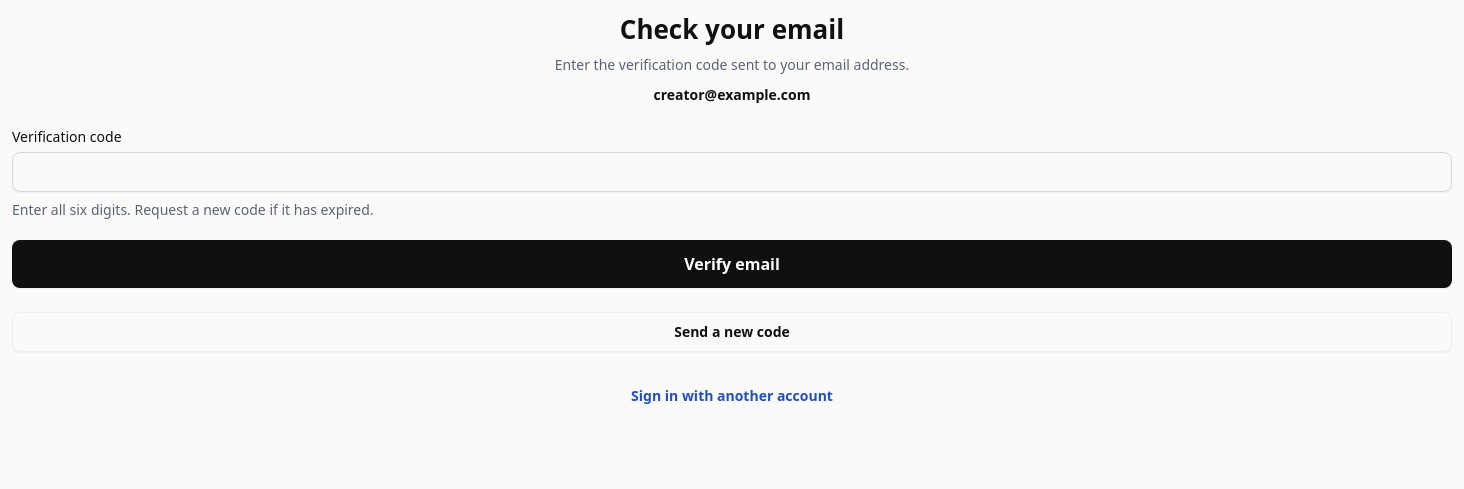
Test: React Query auth forms › shows verification errors and resend success from separate mutations
The image size is (1464, 489).
Type "012345" into the field labelled "Verification code" at [732, 172], box [12,152,1452,192]
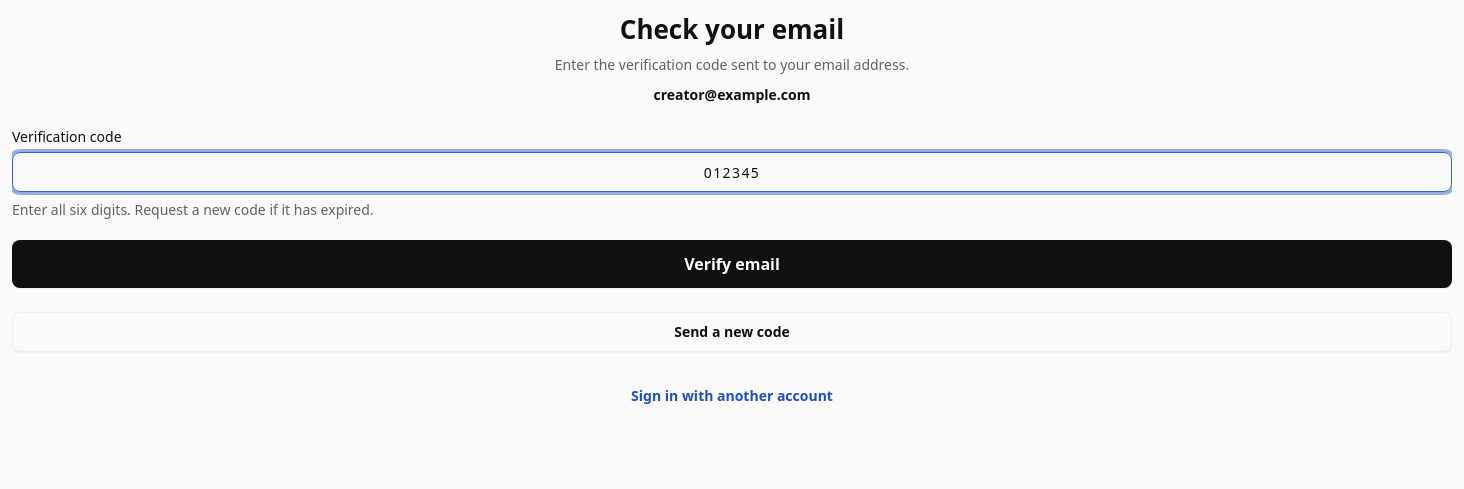
Click the button "Verify email" at [732, 264], box [12,240,1452,288]
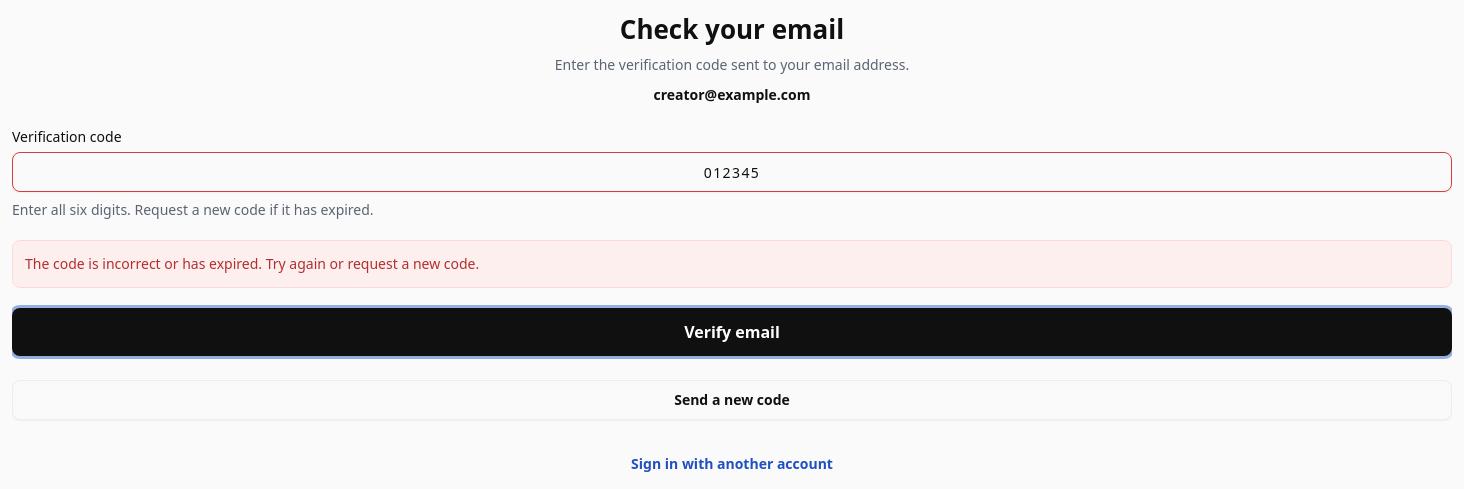
Now the message reads "The code is incorrect or has expired. Try again or request a new code.", box [25,254,479,273]
Click the button "Send a new code" at [732, 400], box [12,380,1452,420]
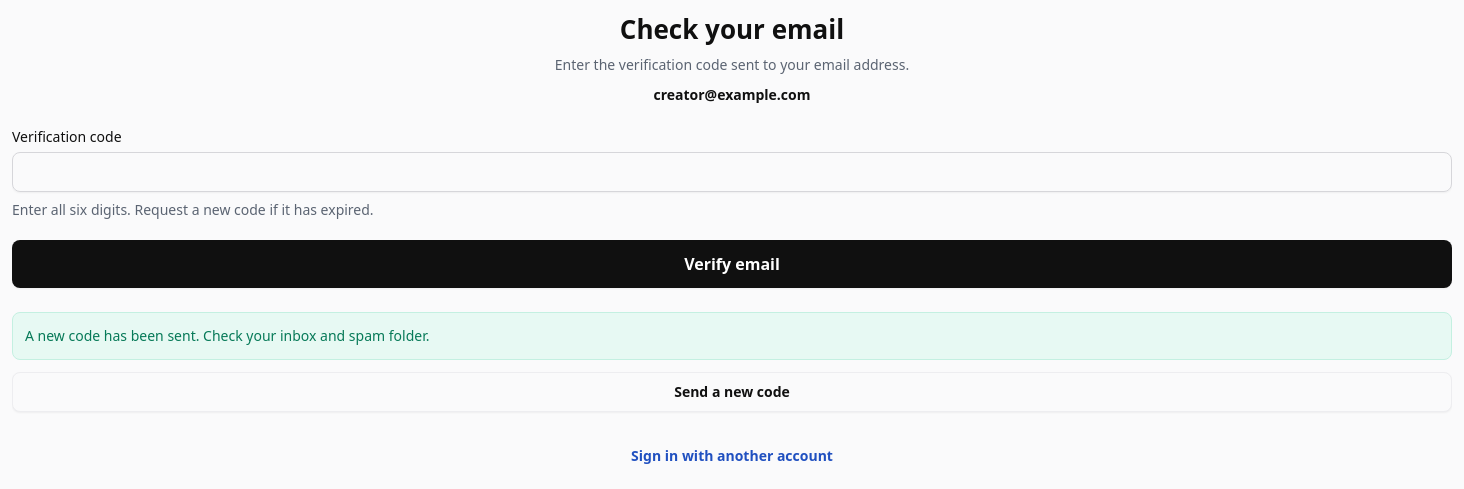
Now the message reads "A new code has been sent. Check your inbox and spam folder.", box [25,326,430,345]
